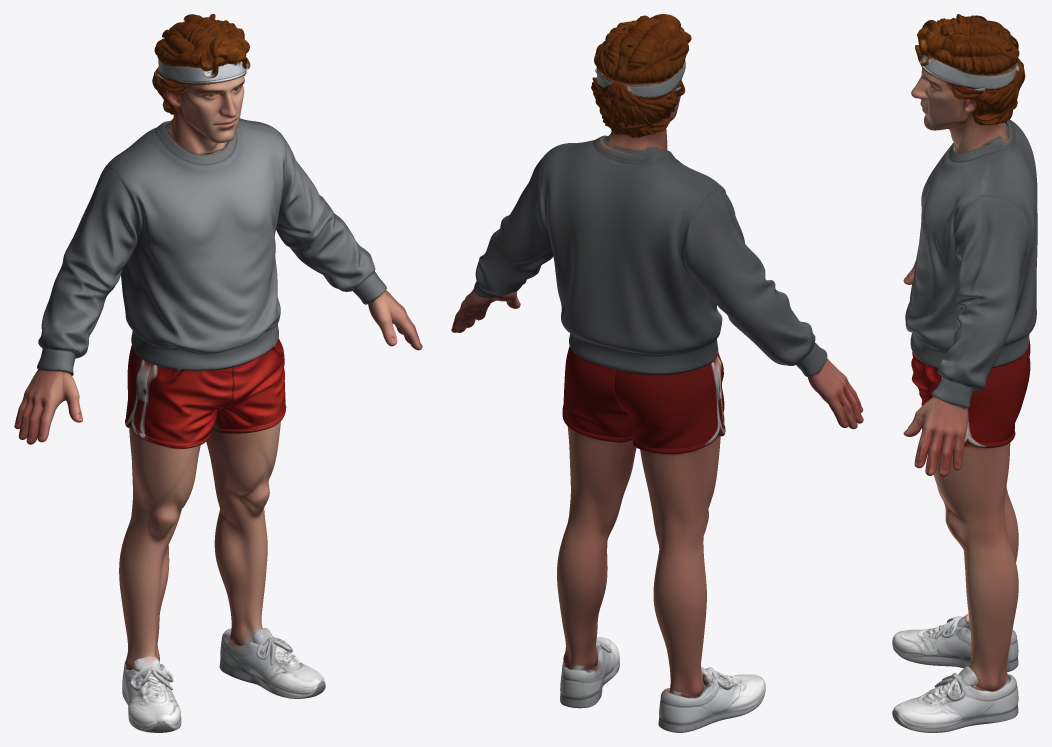
3 renders of one model, left to right at view 1: azimuth 30°, elevation 25°; view 2: azimuth 150°, elevation 25°; view 3: azimuth 270°, elevation 25°, orthographic.
Visible parts, largest first — view 1: node_0; view 2: node_0; view 3: node_0.
Boxes of the visible parts, left/top/right/bottom form: node_0: left=14, top=14, right=422, bottom=732; node_0: left=451, top=14, right=863, bottom=732; node_0: left=892, top=14, right=1037, bottom=732.
Bounding box in the file's own units: 23395 × 37834 × 7441.
Materials: 1 (1 with a texture image).
